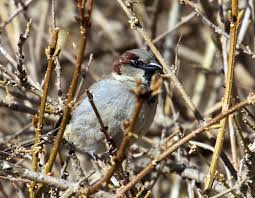hsparrow: (41, 47, 164, 161)
